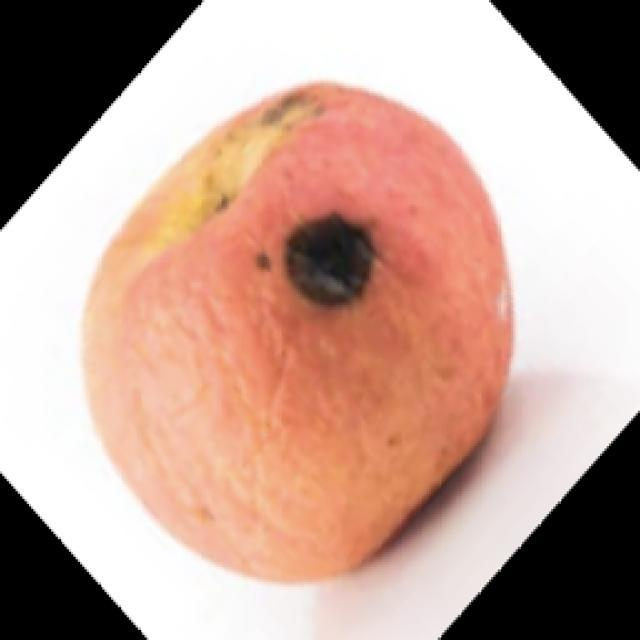Rotten: (92, 78, 523, 580)
